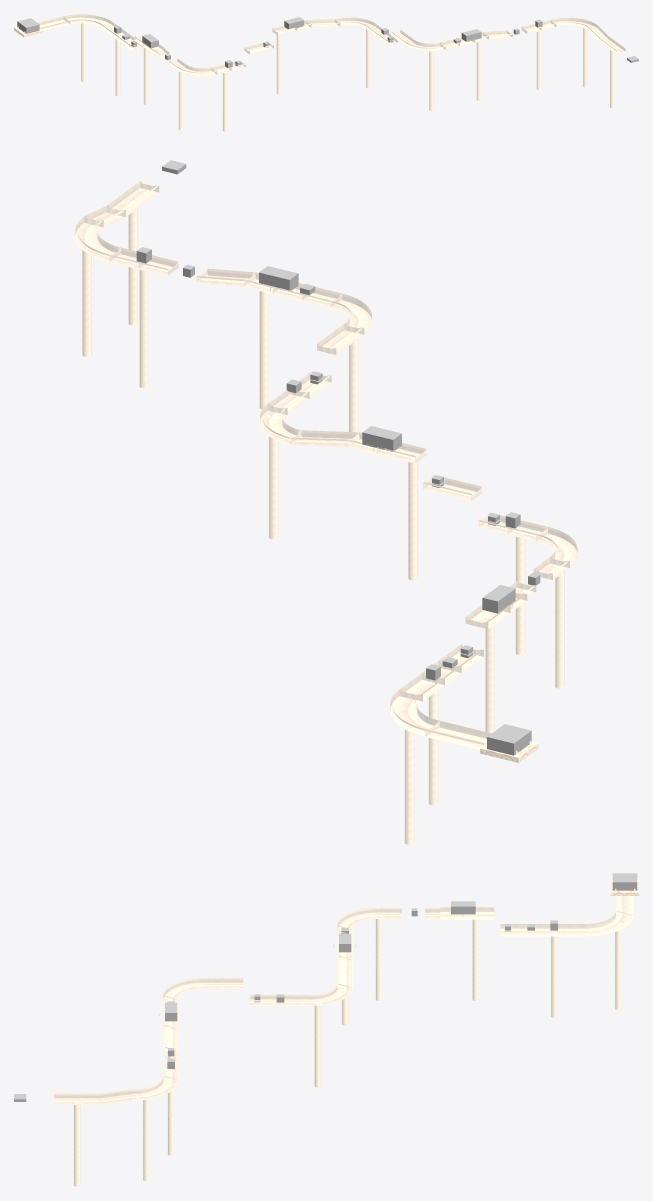
The model's file is level.gltf.
The picture shows the model from 3 angles, top to bottom: view 1: azimuth 30°, elevation 25°; view 2: azimuth 150°, elevation 25°; view 3: azimuth 270°, elevation 25°; orthographic projection. The views are drawn at different scales.
Parts seen in each view (by area): view 1: Floor_002, Floor_028, Column_006, Column_009, Column_005, Column_010, Column_004, Column_002, Column_003, Floor_017, Floor_021, Floor_010 (+15 smaller); view 2: Floor_002, Column_001, Column_006, Column_010, Column_009, Column_004, Column_007, Floor_028, Floor_001, Column_003, Column_005, Column_011 (+8 smaller); view 3: Floor_002, Column_007, Column_012, Column_004, Floor_028, Column_002, Column_003, Column_001, Column_011, Floor_021, Floor_030, Floor_010 (+4 smaller).
Boxes of the visible parts, left/top/right/bottom form: Floor_002: left=64, top=14, right=112, bottom=27; Floor_028: left=551, top=18, right=597, bottom=30; Column_006: left=276, top=32, right=281, bottom=94; Column_009: left=476, top=38, right=481, bottom=100; Column_005: left=222, top=70, right=227, bottom=131; Column_010: left=536, top=29, right=541, bottom=89; Column_004: left=178, top=70, right=183, bottom=130; Column_002: left=115, top=33, right=120, bottom=96; Column_003: left=143, top=47, right=148, bottom=104; Floor_017: left=335, top=17, right=375, bottom=29; Floor_021: left=405, top=40, right=445, bottom=51; Floor_010: left=176, top=65, right=216, bottom=76; Floor_002: left=390, top=689, right=439, bottom=736; Column_001: left=403, top=719, right=415, bottom=844; Column_006: left=408, top=457, right=417, bottom=580; Column_010: left=139, top=263, right=148, bottom=388; Column_009: left=259, top=287, right=269, bottom=409; Column_004: left=553, top=564, right=564, bottom=688; Column_007: left=267, top=415, right=279, bottom=539; Floor_028: left=75, top=216, right=121, bottom=262; Floor_001: left=425, top=720, right=491, bottom=750; Column_003: left=484, top=614, right=495, bottom=733; Column_005: left=515, top=532, right=525, bottom=654; Column_011: left=80, top=231, right=92, bottom=356; Floor_002: left=584, top=911, right=634, bottom=936; Column_007: left=314, top=1001, right=321, bottom=1087; Column_012: left=73, top=1100, right=81, bottom=1186; Column_004: left=375, top=916, right=382, bottom=1000; Floor_028: left=130, top=1077, right=178, bottom=1100; Column_002: left=550, top=930, right=558, bottom=1017; Column_003: left=472, top=914, right=478, bottom=1000; Column_001: left=614, top=923, right=622, bottom=1010; Column_011: left=143, top=1096, right=149, bottom=1181; Floor_021: left=163, top=978, right=204, bottom=1000; Floor_030: left=54, top=1093, right=100, bottom=1104; Floor_010: left=337, top=908, right=378, bottom=930.
Size of the model in its own units: 416 by 110 by 406.
Materials: 7 (7 with a texture image).
